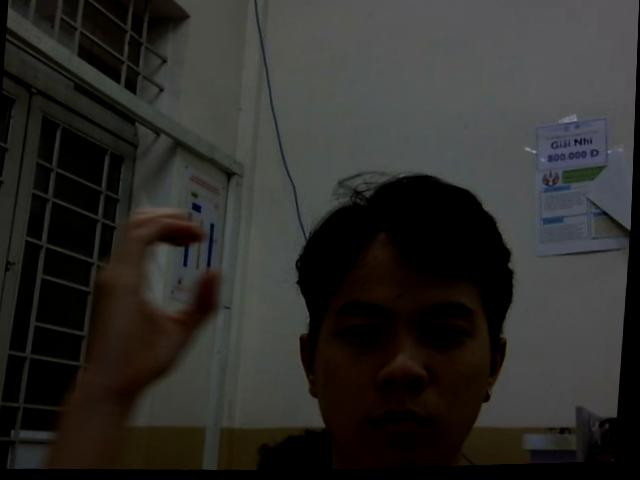C: (80, 200, 231, 398)
